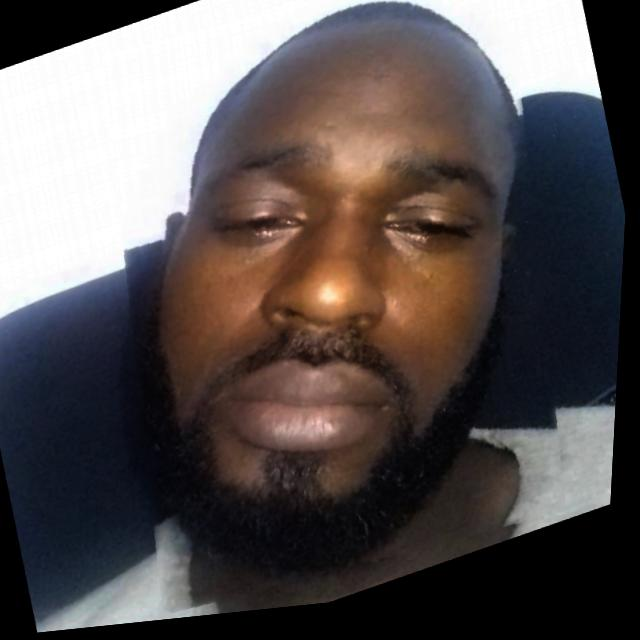sad: (44, 0, 630, 634)
